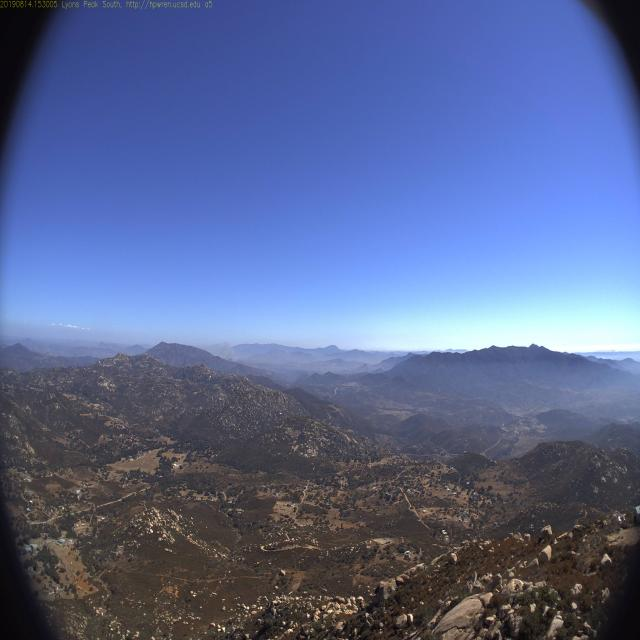smoke: (218, 339, 240, 368)
